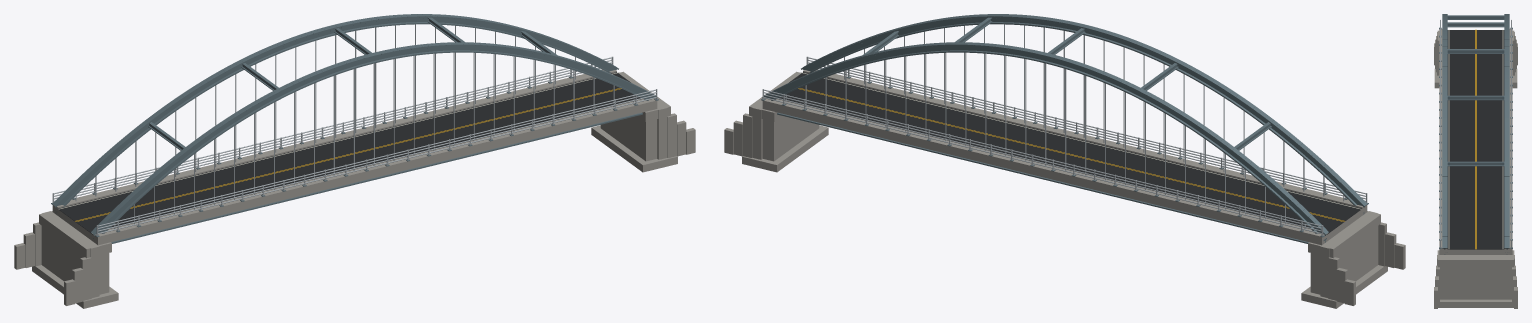
File: tiedArch.obj
The picture shows the model from 3 angles, left to right: view 1: azimuth 30°, elevation 25°; view 2: azimuth 150°, elevation 25°; view 3: azimuth 270°, elevation 25°; orthographic projection. The views are drawn at different scales.
Visible parts, largest first — view 1: asphalt.bridge@asphalt, arch@paintedSteel, railing@galvanizedSteel, abutment@concrete, sidewalk@concrete, hanger@galvanizedSteel, deck@concrete, footing@concrete, girder@paintedSteel, cap@concrete, marking@yellowPaint, marking@whitePaint (+1 smaller); view 2: asphalt.bridge@asphalt, arch@paintedSteel, railing@galvanizedSteel, abutment@concrete, sidewalk@concrete, hanger@galvanizedSteel, deck@concrete, footing@concrete, girder@paintedSteel, cap@concrete, marking@yellowPaint, marking@whitePaint (+1 smaller); view 3: asphalt.bridge@asphalt, arch@paintedSteel, abutment@concrete, sidewalk@concrete, cap@concrete, footing@concrete, marking@whitePaint, railing@galvanizedSteel, deck@concrete, marking@yellowPaint, connection@paintedSteel.
Boxes of the visible parts, x1=… form: asphalt.bridge@asphalt: x1=58, y1=72, x2=640, y2=234; arch@paintedSteel: x1=52, y1=14, x2=657, y2=235; railing@galvanizedSteel: x1=52, y1=56, x2=657, y2=235; abutment@concrete: x1=14, y1=72, x2=695, y2=305; sidewalk@concrete: x1=53, y1=69, x2=657, y2=238; hanger@galvanizedSteel: x1=75, y1=24, x2=634, y2=228; deck@concrete: x1=52, y1=102, x2=657, y2=245; footing@concrete: x1=32, y1=125, x2=677, y2=308; girder@paintedSteel: x1=54, y1=112, x2=642, y2=243; cap@concrete: x1=39, y1=71, x2=670, y2=258; marking@yellowPaint: x1=75, y1=88, x2=621, y2=221; marking@whitePaint: x1=58, y1=72, x2=617, y2=233; asphalt.bridge@asphalt: x1=779, y1=72, x2=1361, y2=234; arch@paintedSteel: x1=762, y1=14, x2=1367, y2=235; railing@galvanizedSteel: x1=762, y1=56, x2=1367, y2=235; abutment@concrete: x1=724, y1=72, x2=1405, y2=305; sidewalk@concrete: x1=762, y1=69, x2=1366, y2=238; hanger@galvanizedSteel: x1=785, y1=24, x2=1344, y2=228; deck@concrete: x1=762, y1=102, x2=1367, y2=245; footing@concrete: x1=742, y1=125, x2=1387, y2=308; girder@paintedSteel: x1=777, y1=112, x2=1364, y2=243; cap@concrete: x1=749, y1=71, x2=1380, y2=258; marking@yellowPaint: x1=798, y1=88, x2=1344, y2=221; marking@whitePaint: x1=802, y1=72, x2=1361, y2=233; asphalt.bridge@asphalt: x1=1447, y1=30, x2=1504, y2=249; arch@paintedSteel: x1=1442, y1=14, x2=1509, y2=249; abutment@concrete: x1=1434, y1=32, x2=1517, y2=308; sidewalk@concrete: x1=1439, y1=29, x2=1512, y2=249; cap@concrete: x1=1437, y1=30, x2=1514, y2=267; footing@concrete: x1=1434, y1=69, x2=1517, y2=307; marking@whitePaint: x1=1448, y1=30, x2=1503, y2=248; railing@galvanizedSteel: x1=1440, y1=20, x2=1511, y2=247; deck@concrete: x1=1439, y1=249, x2=1512, y2=254; marking@yellowPaint: x1=1475, y1=29, x2=1476, y2=249; connection@paintedSteel: x1=1439, y1=27, x2=1512, y2=248.
Size of the model in its own units: 72.02 by 19.42 by 10.34.
